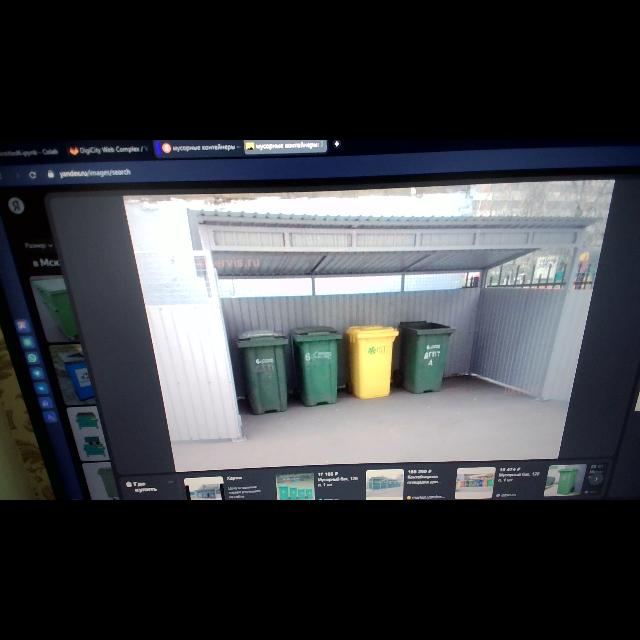Trash_Can_Closed: (235, 328, 289, 415), (289, 325, 343, 407), (344, 326, 399, 398)
Trash_Can_Empty: (399, 320, 457, 394)
